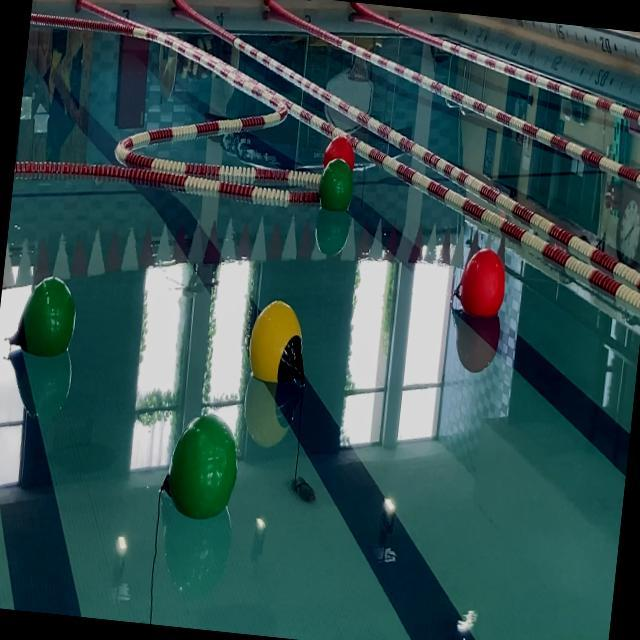buoy: (160, 408, 244, 524), (8, 272, 79, 362), (245, 298, 314, 386), (452, 243, 508, 320), (316, 154, 358, 213), (322, 132, 357, 170)
